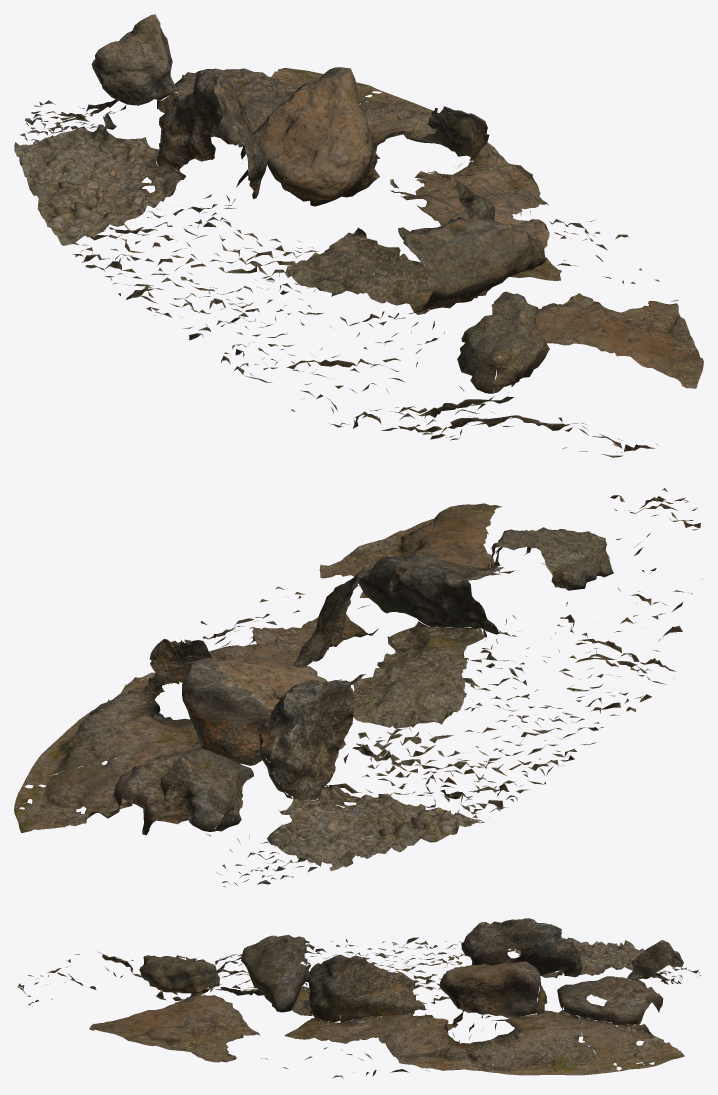
Rendered from ph_coast_land_rocks_02.glb.
3 views of the same model, one above another, from view 1: azimuth 30°, elevation 25°; view 2: azimuth 150°, elevation 25°; view 3: azimuth 270°, elevation 25° (orthographic). The views are drawn at different scales.
Parts seen in each view (by area): view 1: Hero; view 2: Hero; view 3: Hero.
Boxes of the visible parts, x1=… form: Hero: x1=14, y1=14, x2=703, y2=457; Hero: x1=14, y1=488, x2=700, y2=887; Hero: x1=17, y1=918, x2=700, y2=1078.
Bounding box in the file's own units: 0.468 × 0.1335 × 0.9672.
1 material, 1 textured.
